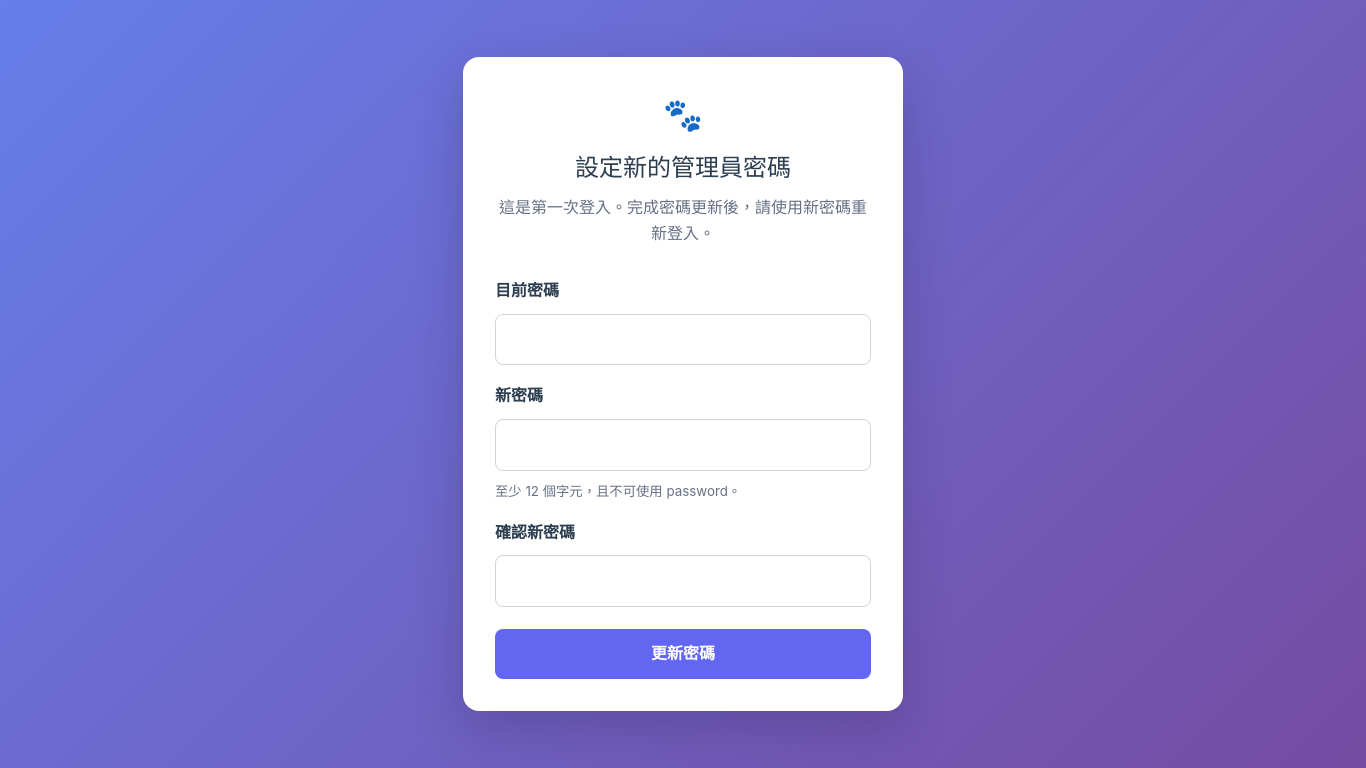
Test case: ChangePassword › clears an expired token, reports the failure, and returns to login
This screenshot has width=1366, height=768.
Type "password" into the password field with test id "current-password" at (683, 340), box x1=495 y1=314 x2=871 y2=365
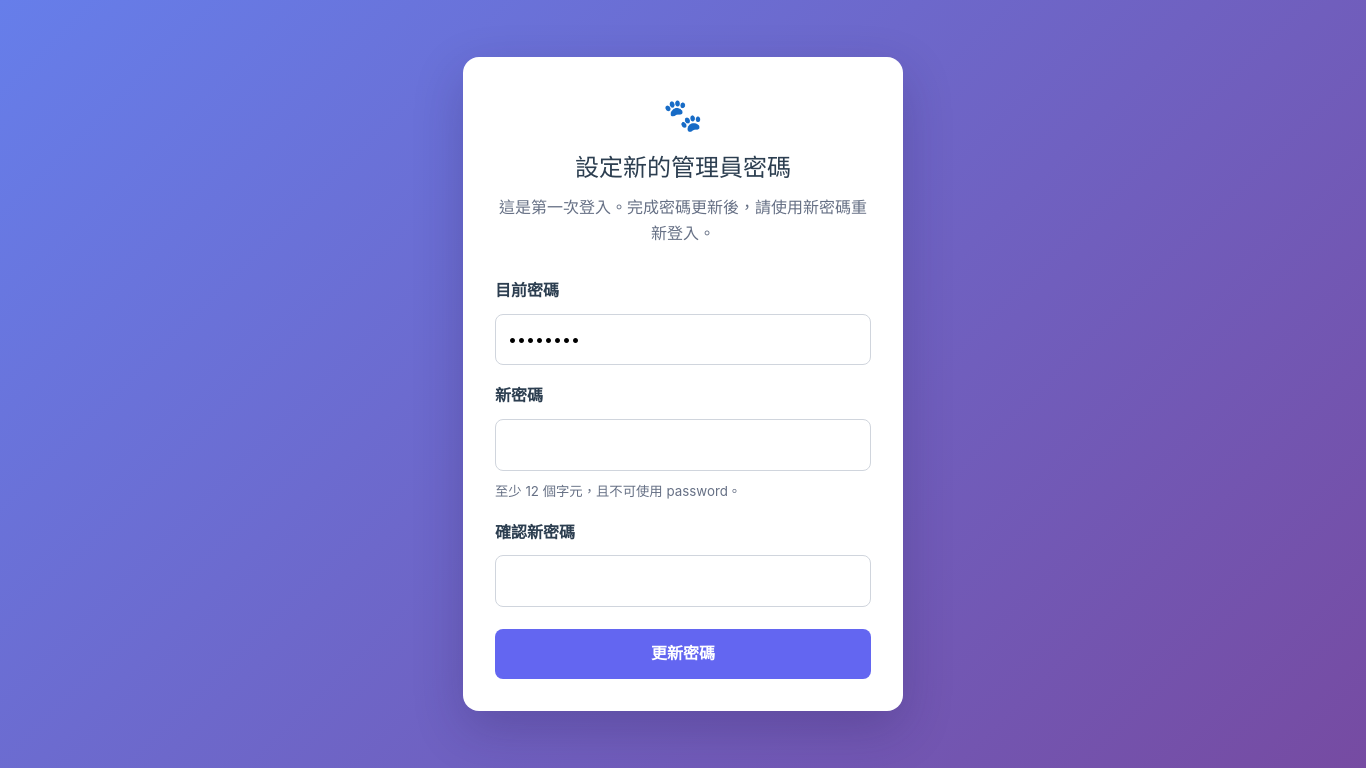
Type "Petsalon-2026!" into the password field with test id "new-password" at (683, 445), box x1=495 y1=419 x2=871 y2=470
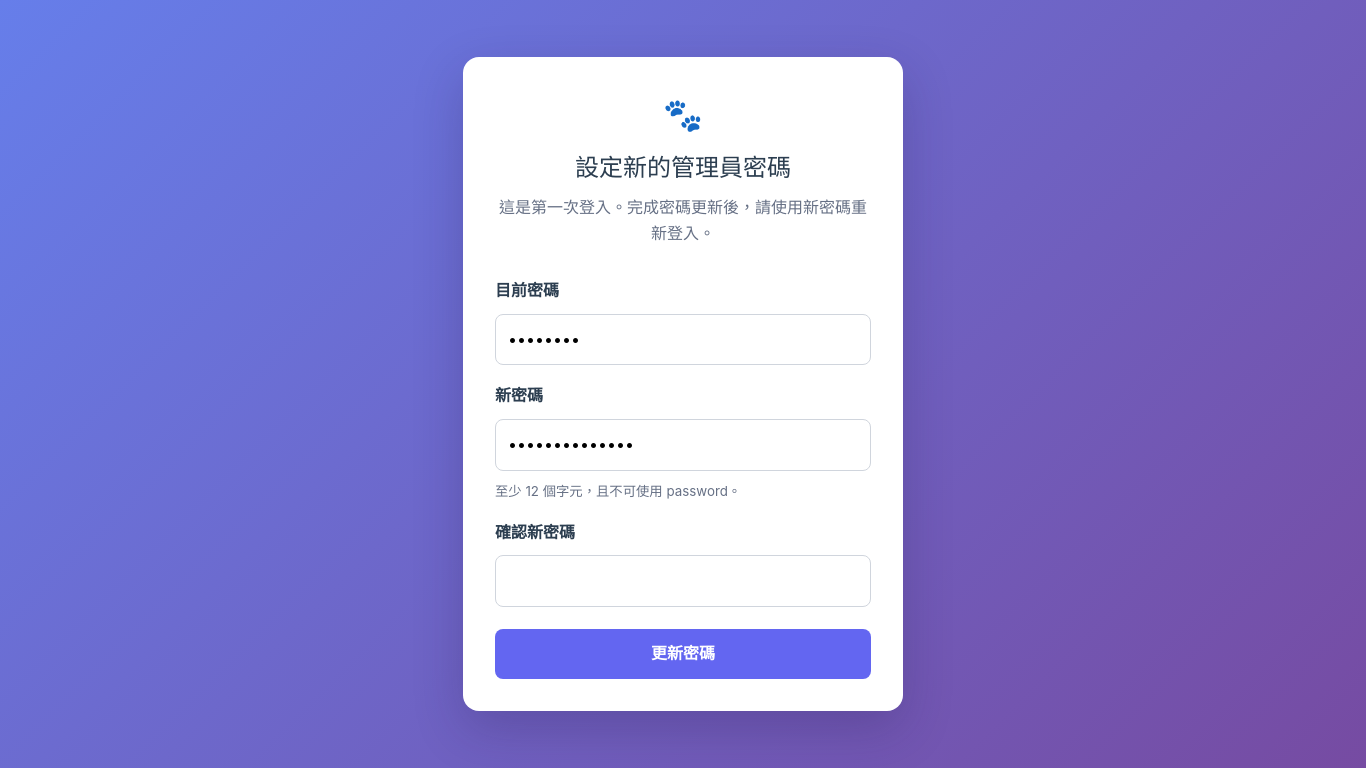
Type "Petsalon-2026!" into the password field with test id "confirm-password" at (683, 581), box x1=495 y1=555 x2=871 y2=607
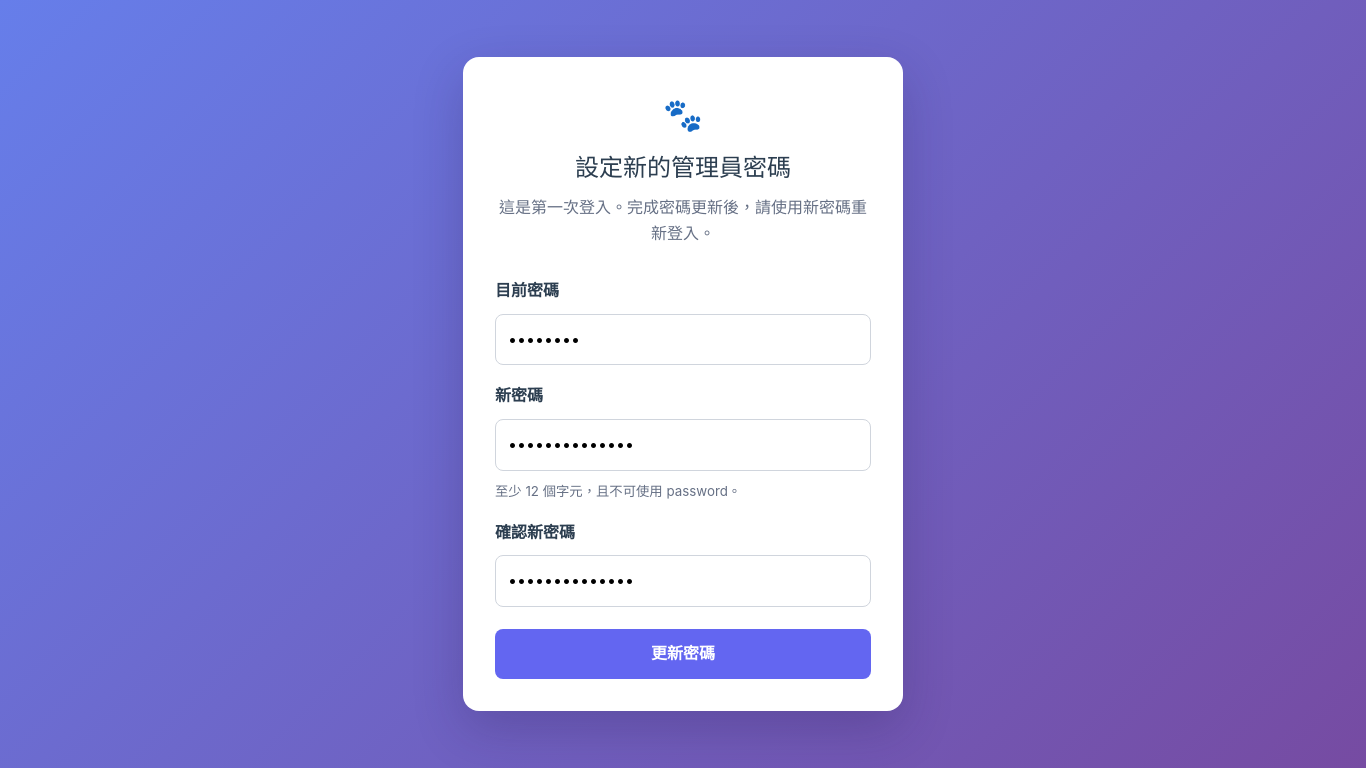
Submit the form, box x1=495 y1=270 x2=871 y2=679
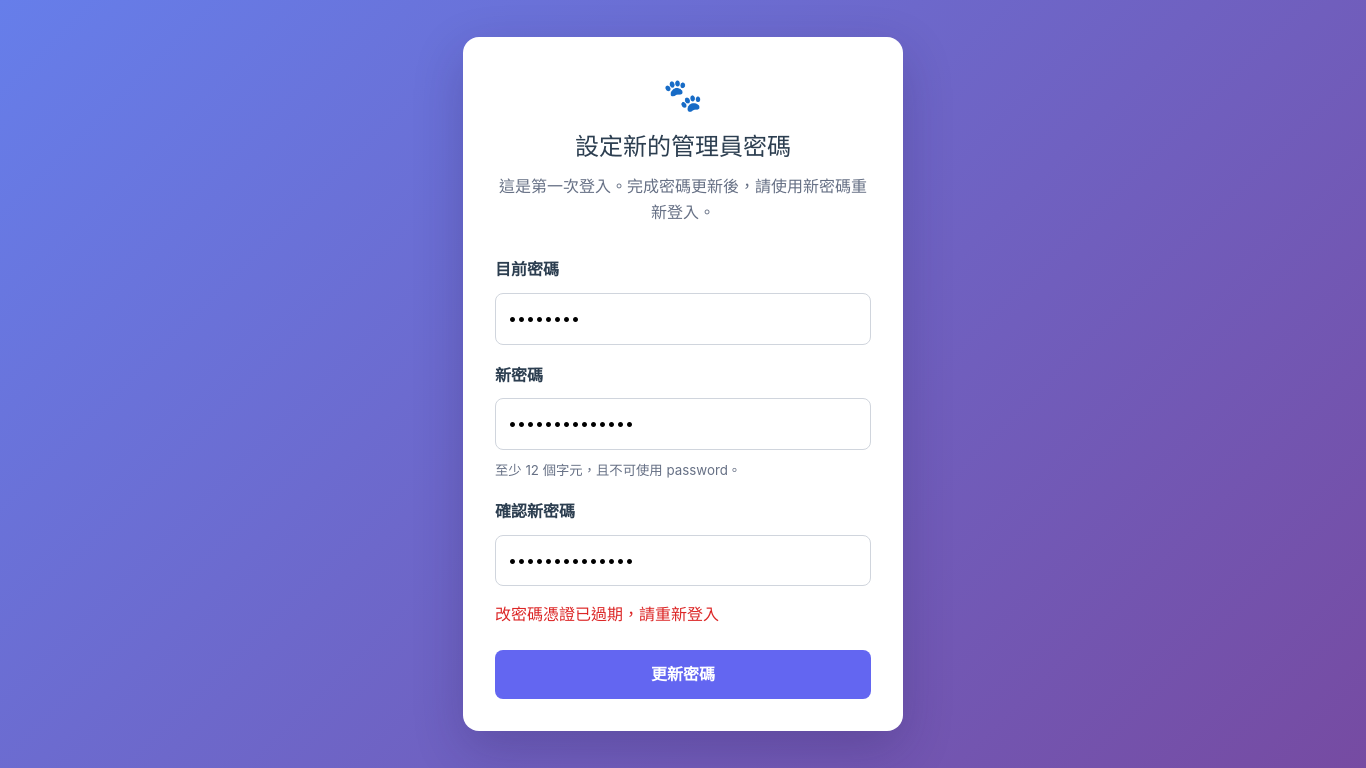
Now the text "改密碼憑證已過期，請重新登入" is shown, box x1=495 y1=604 x2=719 y2=624
